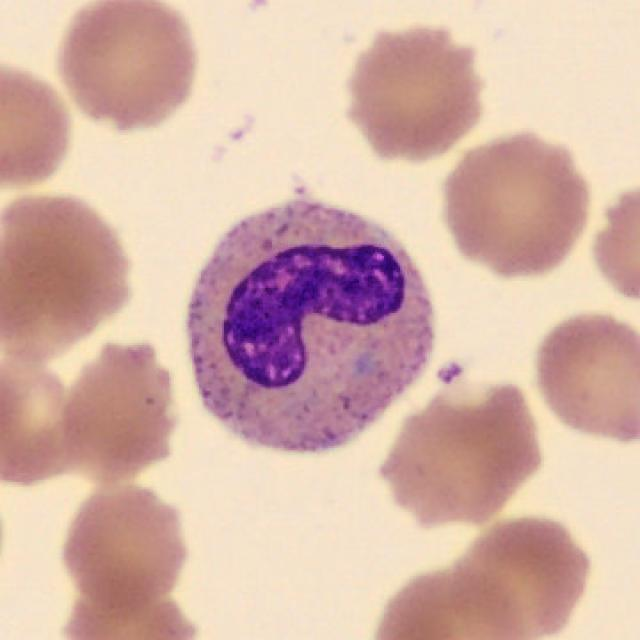Bastonete: (185, 185, 436, 453)
